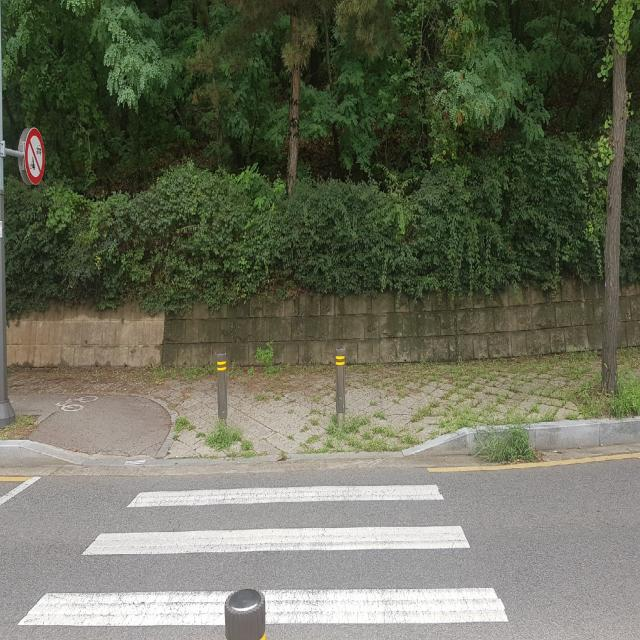횡단보도: (17, 482, 513, 632)
